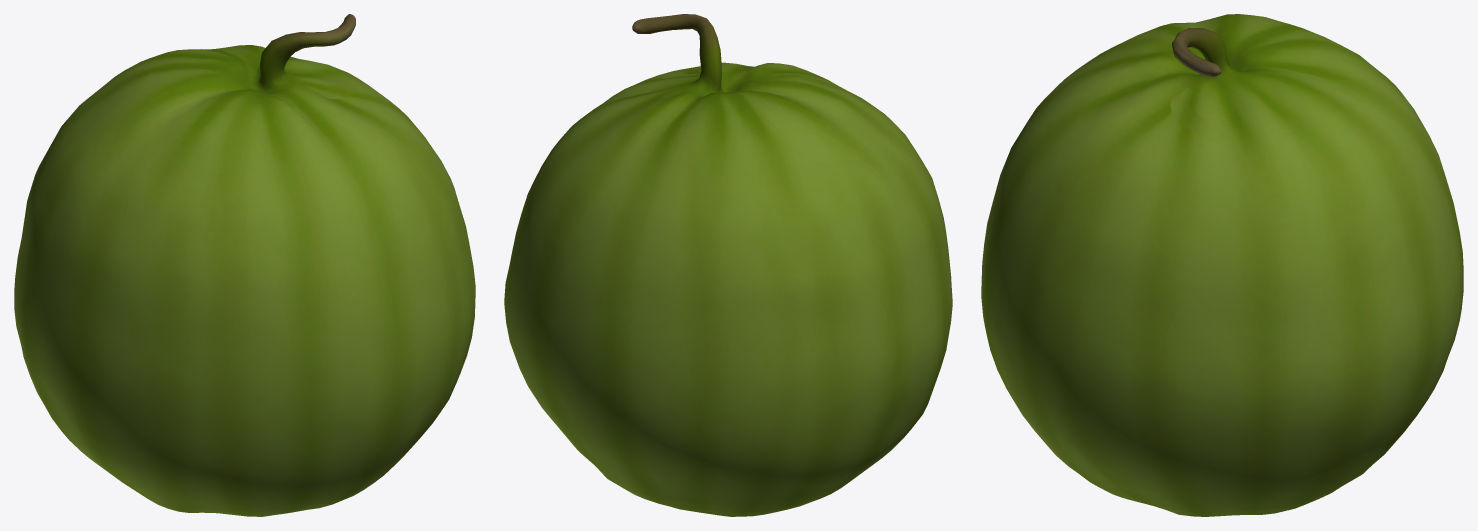
File: melon.glb
3 renders of one model, left to right at view 1: azimuth 30°, elevation 25°; view 2: azimuth 150°, elevation 25°; view 3: azimuth 270°, elevation 25°, orthographic. The views are drawn at different scales.
Visible parts, largest first — view 1: Cel Shaded Stripe Melon; view 2: Cel Shaded Stripe Melon; view 3: Cel Shaded Stripe Melon.
Part boxes in pixels (<box>): Cel Shaded Stripe Melon: <box>14,14,475,516</box>; Cel Shaded Stripe Melon: <box>504,14,952,516</box>; Cel Shaded Stripe Melon: <box>981,14,1463,516</box>.
Size of the model in its own units: 0.9316 by 0.998 by 0.9395.
Materials: 1 (1 with a texture image).
